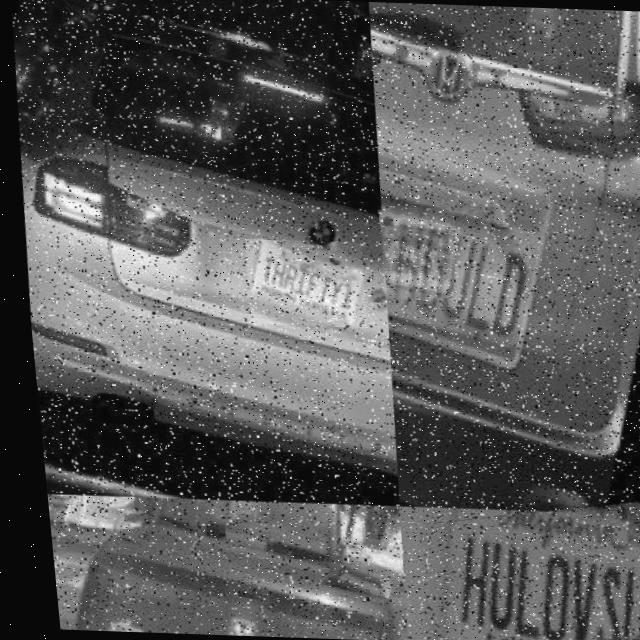LicensePlate: (401, 497, 640, 640), (242, 239, 358, 327), (372, 205, 457, 301)
